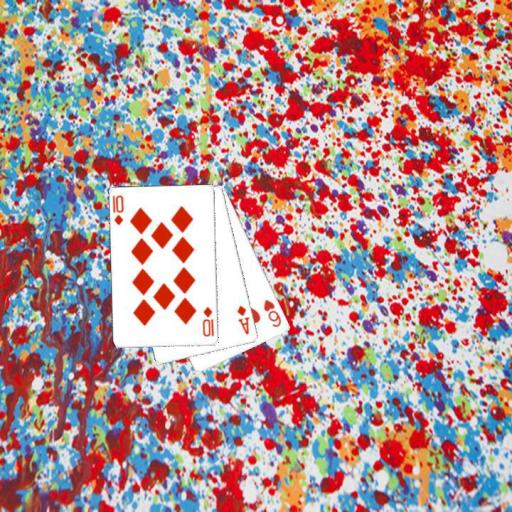10D: (200, 304, 215, 339), (110, 192, 125, 227)
6H: (260, 297, 283, 329)
AD: (235, 303, 251, 337)
